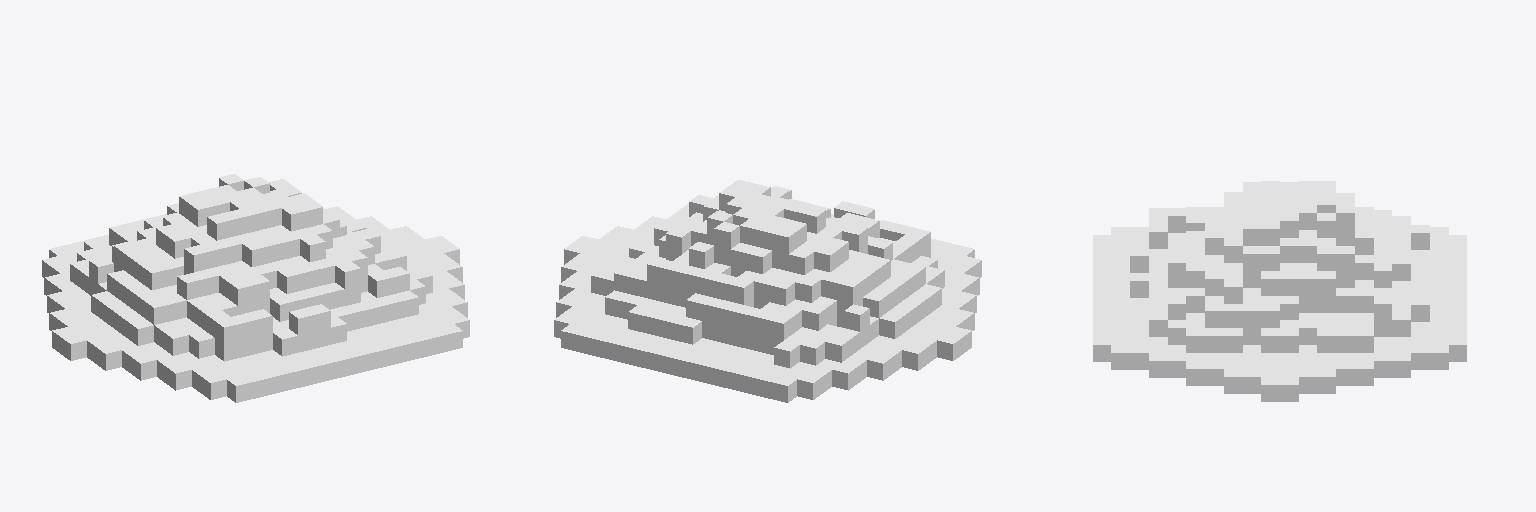
File: overworld-46-stone_deposit.obj
The picture shows the model from 3 angles: view 1: azimuth 30°, elevation 25°; view 2: azimuth 150°, elevation 25°; view 3: azimuth 270°, elevation 25°; orthographic projection.
Parts seen in each view (by area): view 1: stone_deposit; view 2: stone_deposit; view 3: stone_deposit.
Part boxes in pixels (bbox=[...]): stone_deposit: bbox=[42, 174, 469, 402]; stone_deposit: bbox=[554, 180, 981, 402]; stone_deposit: bbox=[1093, 181, 1466, 401].
Size of the model in its own units: 2.4 by 0.6 by 2.